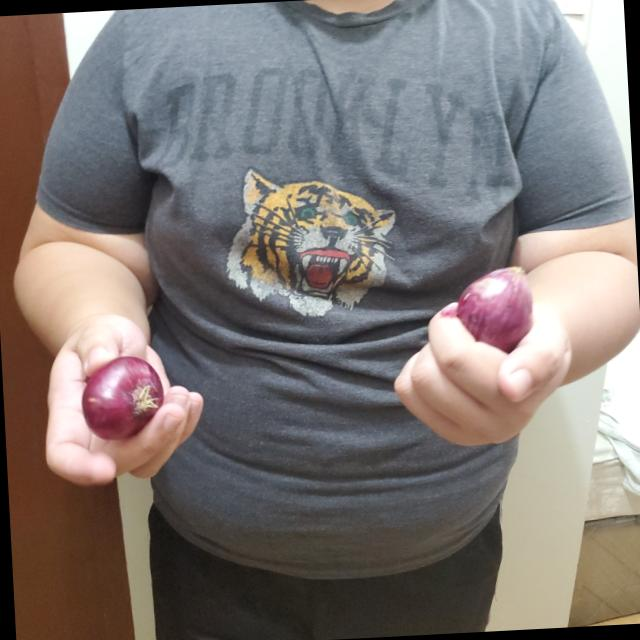onion: (80, 348, 172, 442), (456, 260, 537, 346)
